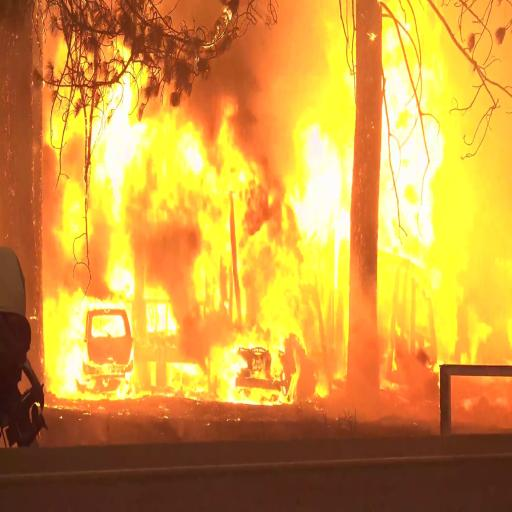fire: (215, 272, 298, 404), (46, 291, 133, 403)
